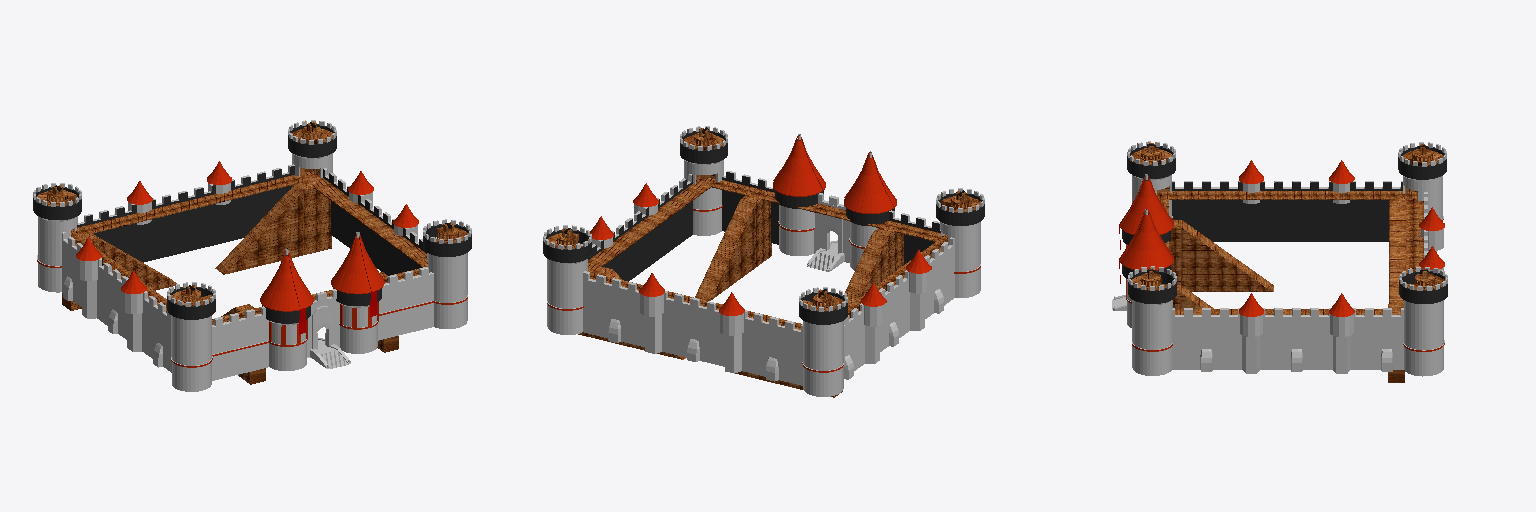
The picture shows the model from 3 angles: view 1: azimuth 30°, elevation 25°; view 2: azimuth 150°, elevation 25°; view 3: azimuth 270°, elevation 25°; orthographic projection.
Parts seen in each view (by area): view 1: Castle_Catle.006, Cube_Cube.002, Castle.003_Catle.009; view 2: Castle_Catle.006, Cube_Cube.002, Castle.003_Catle.009; view 3: Castle_Catle.006, Cube_Cube.002.
Part boxes in pixels (x1,y1,x2,y2): Castle_Catle.006: (33, 120, 471, 391); Cube_Cube.002: (62, 172, 427, 384); Castle.003_Catle.009: (310, 306, 350, 368); Castle_Catle.006: (543, 126, 984, 396); Cube_Cube.002: (578, 178, 947, 397); Castle.003_Catle.009: (807, 215, 844, 271); Castle_Catle.006: (1119, 141, 1447, 376); Cube_Cube.002: (1157, 191, 1423, 382).
Size of the model in its own units: 231 by 94.17 by 225.
10 materials, 1 textured.